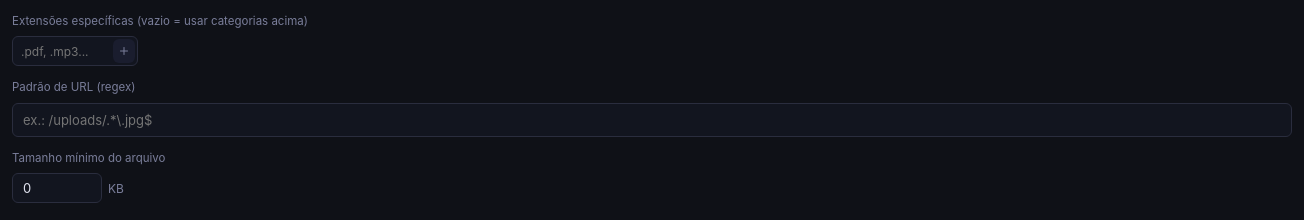
extension chips › adds on Enter and on comma
Type ".pdf" into the field labelled "Extensões específicas (vazio = usar categorias acima)" at (66, 51), box [21, 39, 111, 63]
Then press Enter
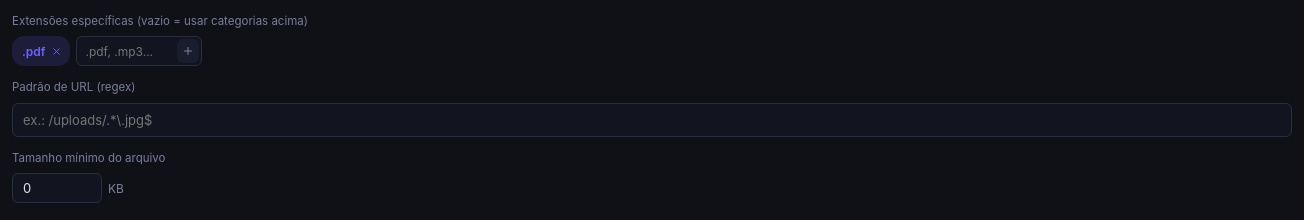
Type ".mp3," into the field labelled "Extensões específicas (vazio = usar categorias acima)" at (130, 51), box [86, 39, 176, 63]
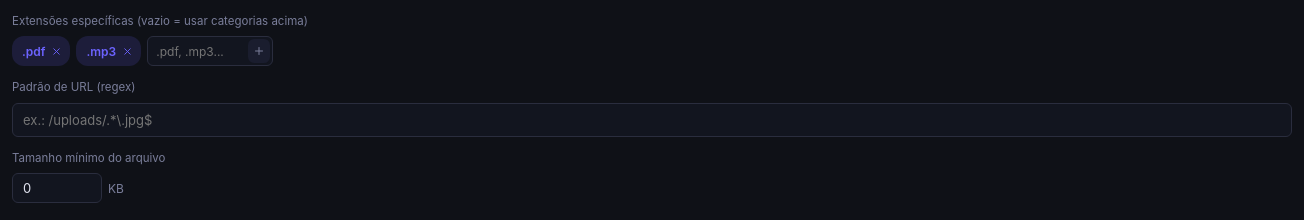
Expected: the text ".pdf" is shown, [12, 36, 70, 66]
Expected: the text ".mp3" is shown, [76, 36, 141, 66]
